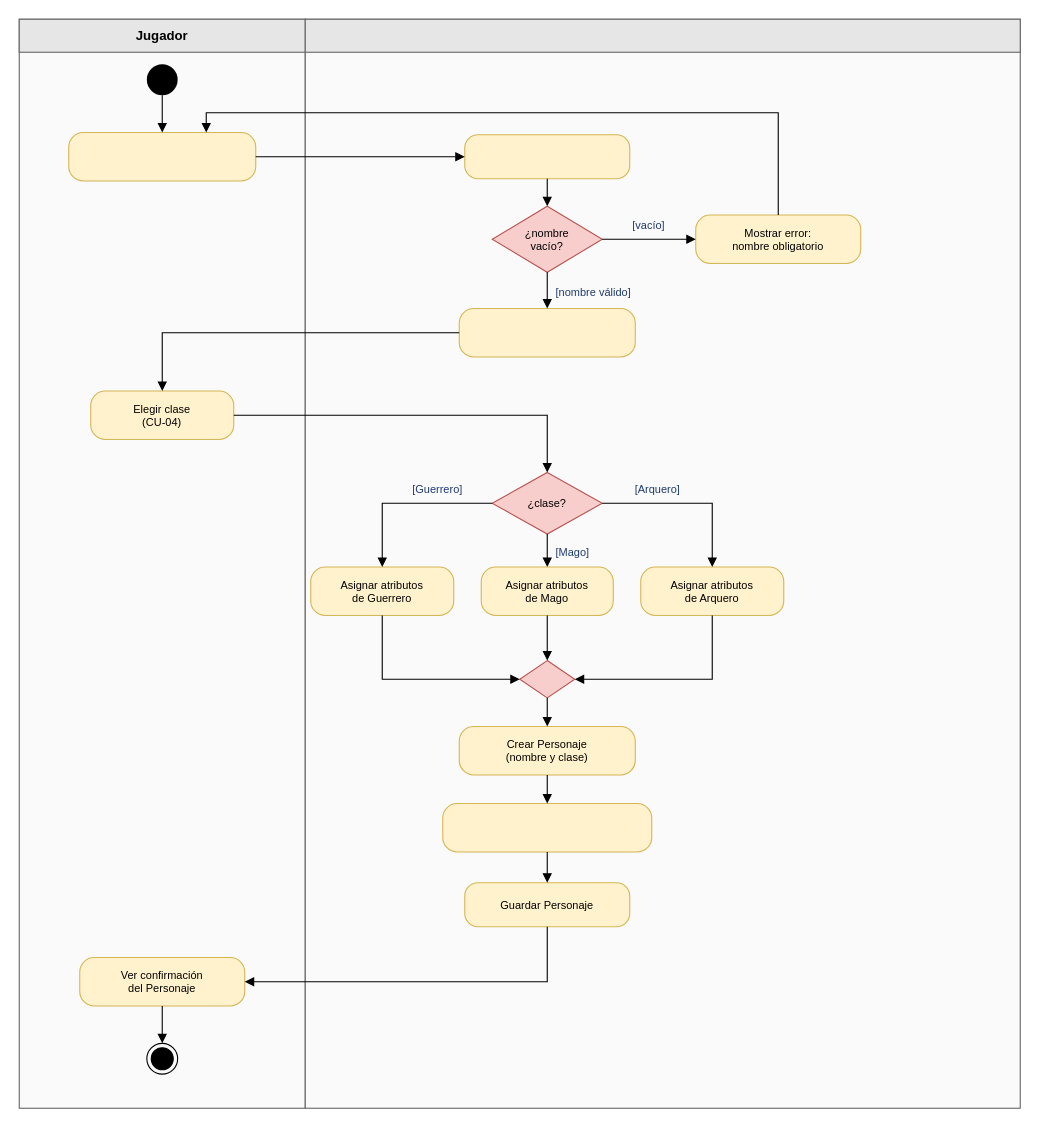
This 1040x1128 diagram has some shape labels left out. Here are the shapes that lost their labels. From the top down, the box of each, then its label:
(304, 18, 1020, 52): RPG Manager
(68, 131, 256, 181): Ingresar nombre del personaje
(464, 134, 630, 179): Validar nombre
(458, 307, 635, 357): Mostrar clases disponibles
(442, 802, 652, 852): Crear Inventario vacío del Personaje
